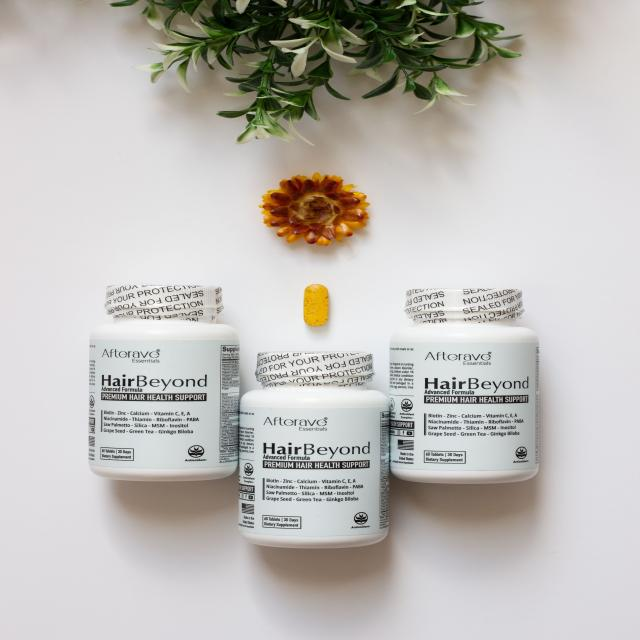Bottle: (89, 286, 239, 480), (240, 352, 388, 548), (390, 289, 538, 483)
